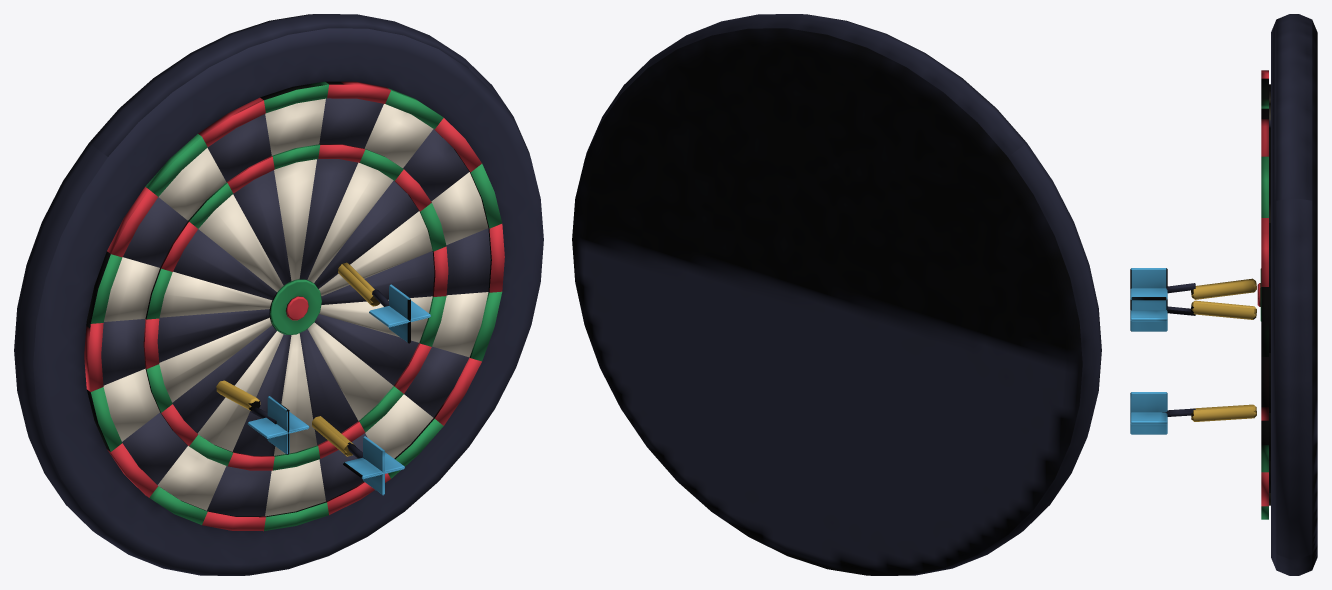
The model's file is dartboard.glb.
The picture shows the model from 3 angles, left to right: view 1: azimuth 30°, elevation 25°; view 2: azimuth 150°, elevation 25°; view 3: azimuth 270°, elevation 25°; orthographic projection. The views are drawn at different scales.
Parts seen in each view (by area): view 1: dartboard; view 2: dartboard; view 3: dartboard.
Boxes of the visible parts, bbox=[...] form: dartboard: bbox=[14, 14, 543, 575]; dartboard: bbox=[572, 14, 1101, 575]; dartboard: bbox=[1130, 14, 1317, 575].
Size of the model in its own units: 0.6 by 0.6 by 0.2.
Materials: 7 (7 with a texture image).
